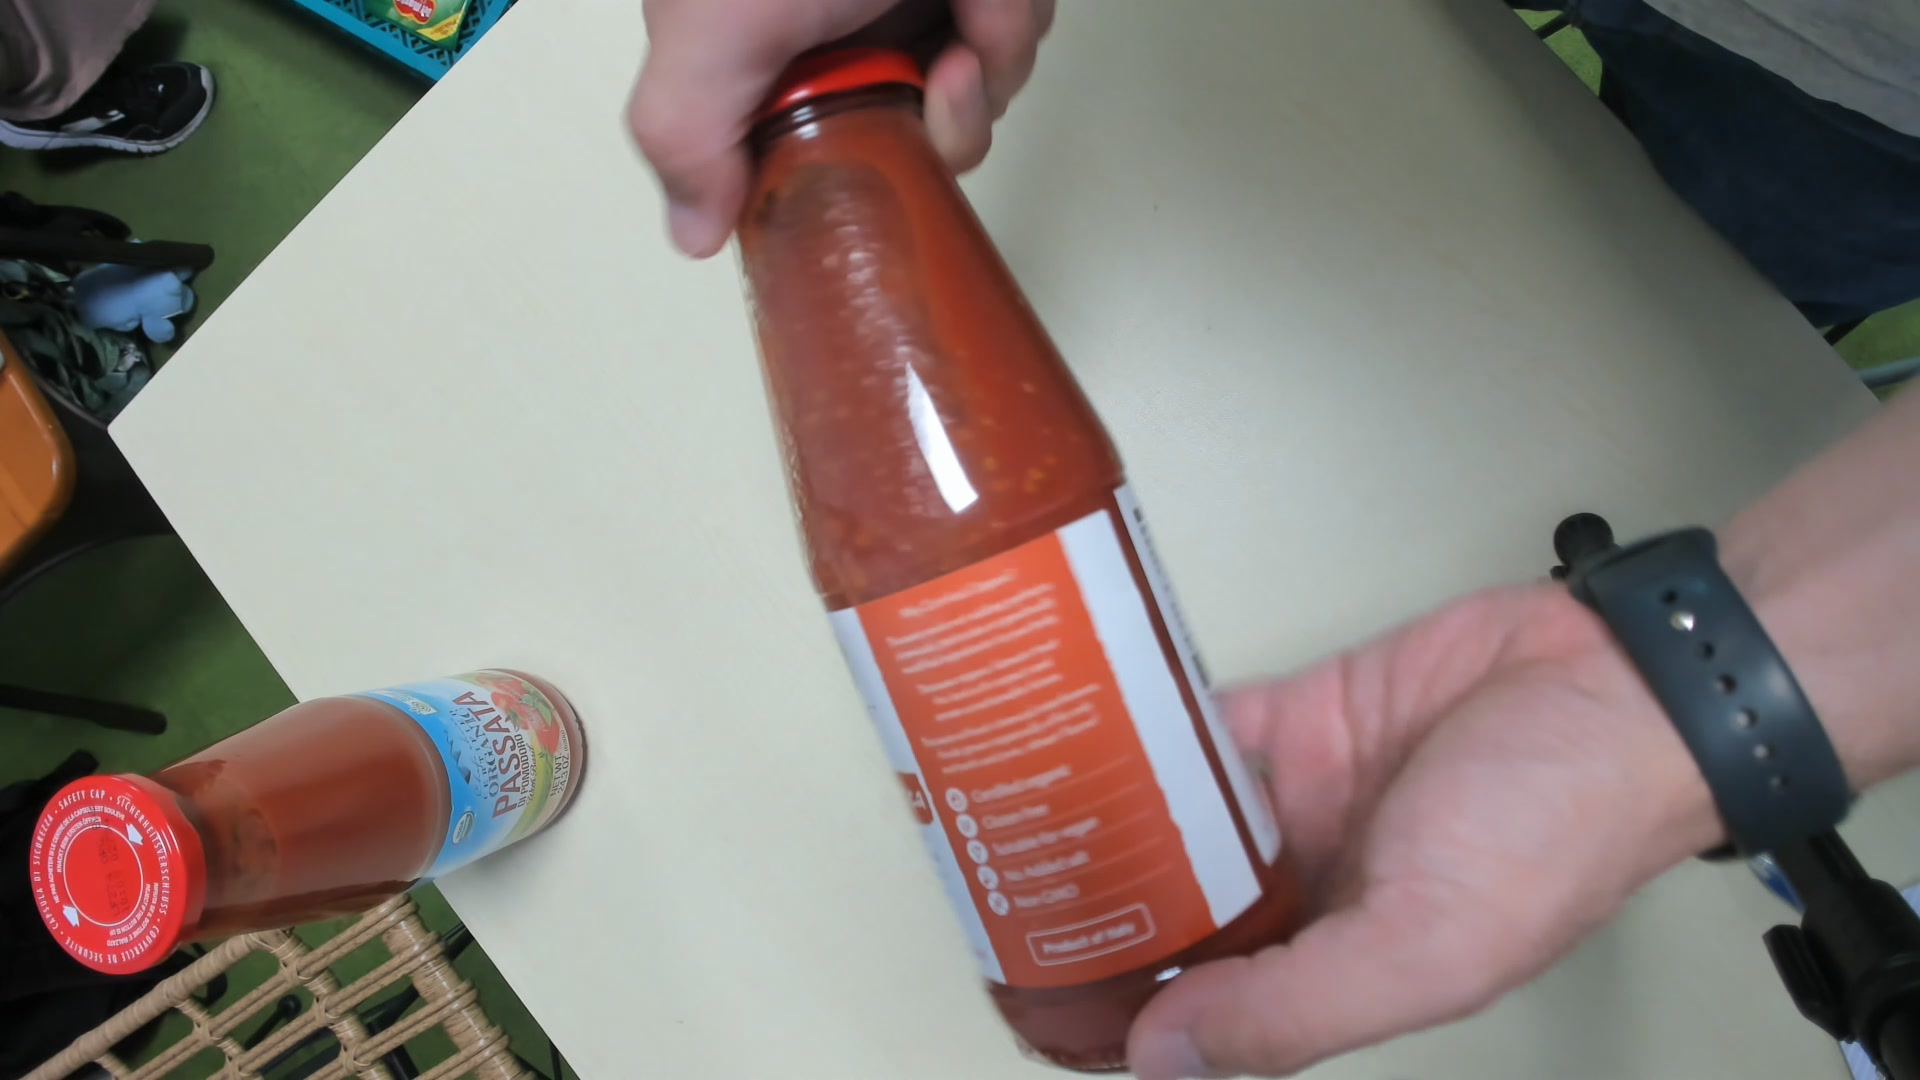PastaSauce_600-699g_NonHalal_NonHealthy: (735, 47, 1315, 1069)
